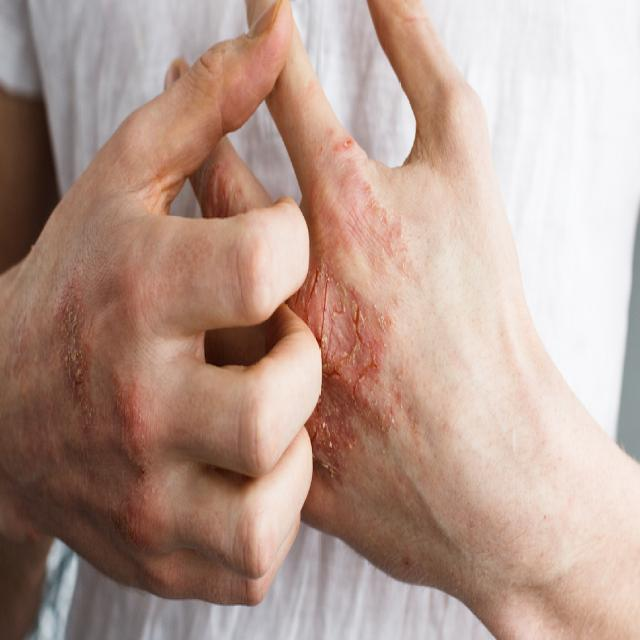eczema: (295, 256, 407, 496), (55, 292, 172, 521)
